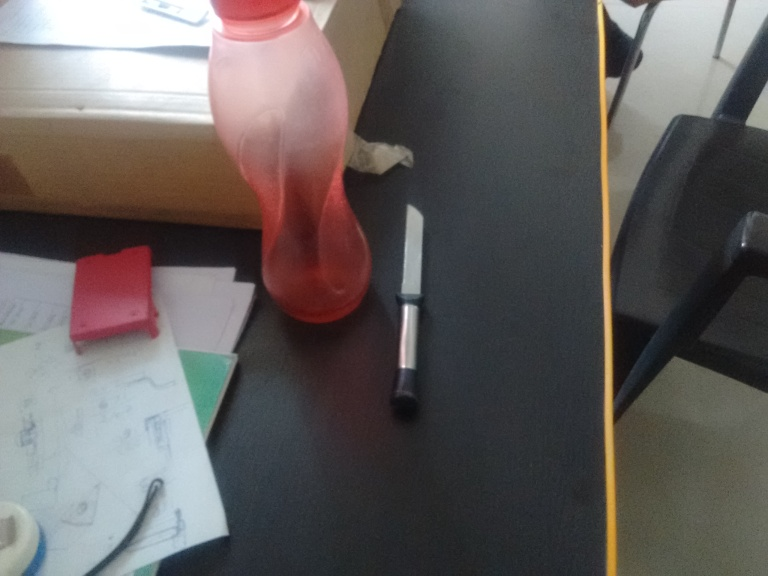knife: (391, 201, 427, 417)
